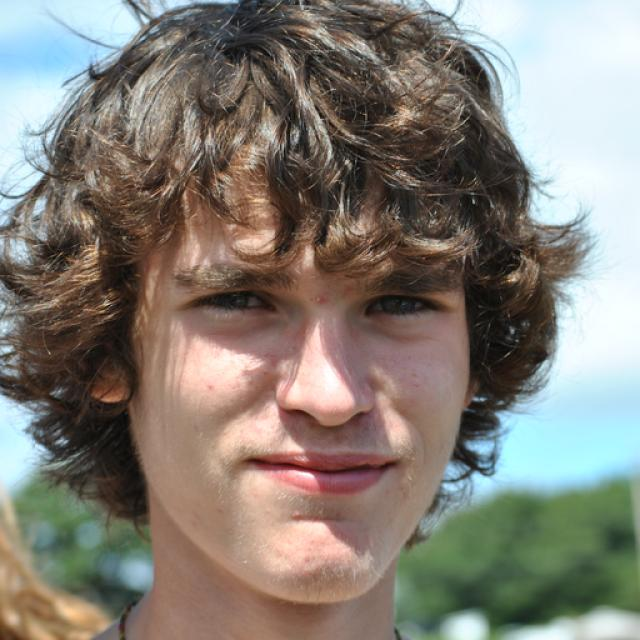Acne: (308, 291, 326, 310)
